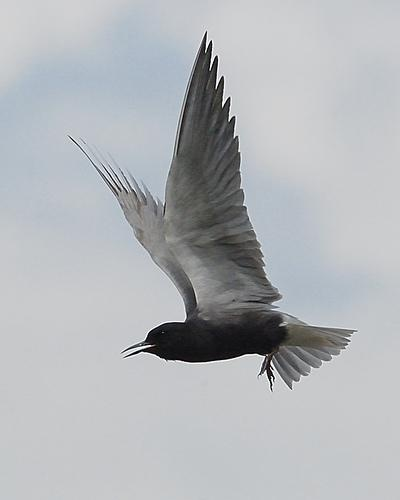bird: (66, 27, 357, 394)
